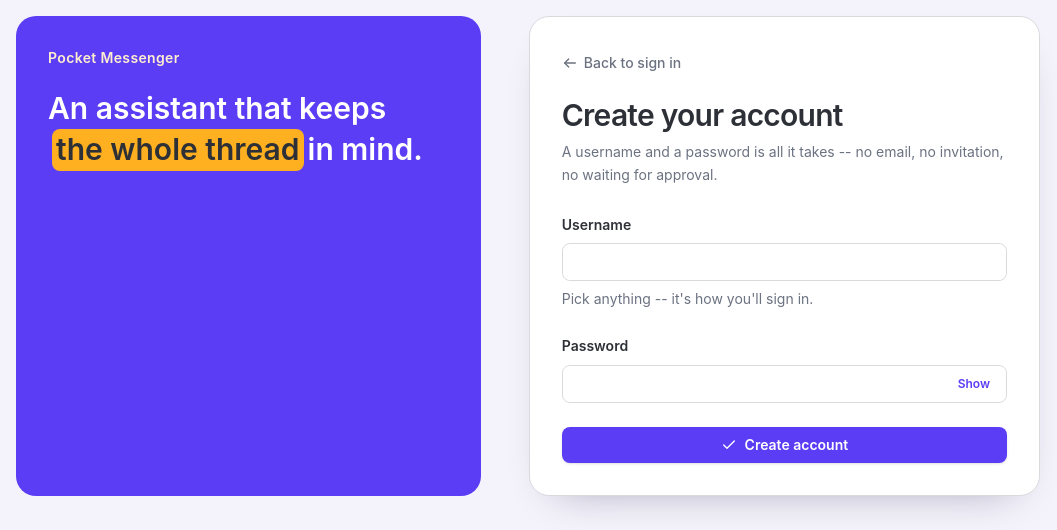
Test case: Signup screen › [AC-002] submits to POST /auth/register and signs the user in on success
The image size is (1057, 530).
In the field labelled "Username": point(784, 262) [563, 244, 1006, 280], type "newuser"
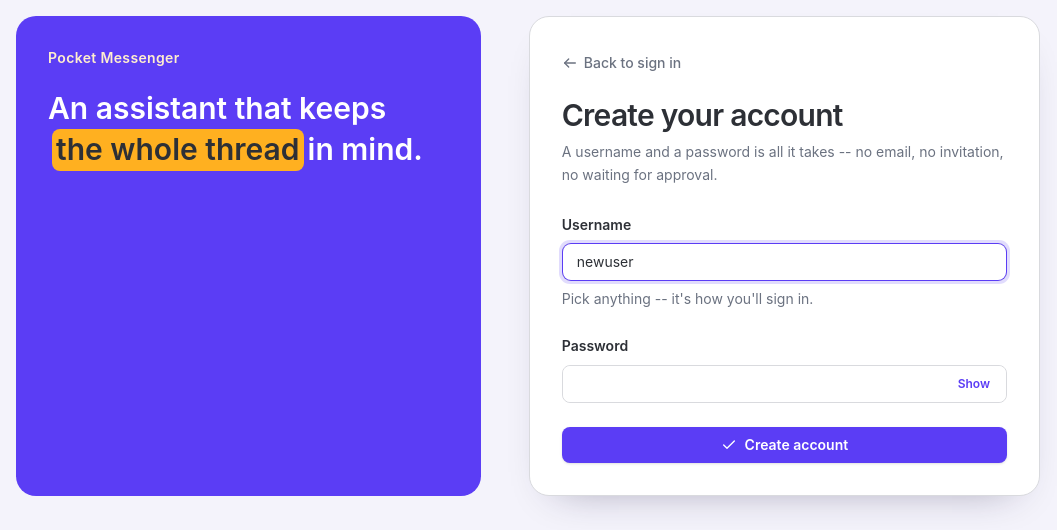
In the password field labelled "Password": point(784, 384) [563, 366, 1006, 402], type "a-strong-pass1"
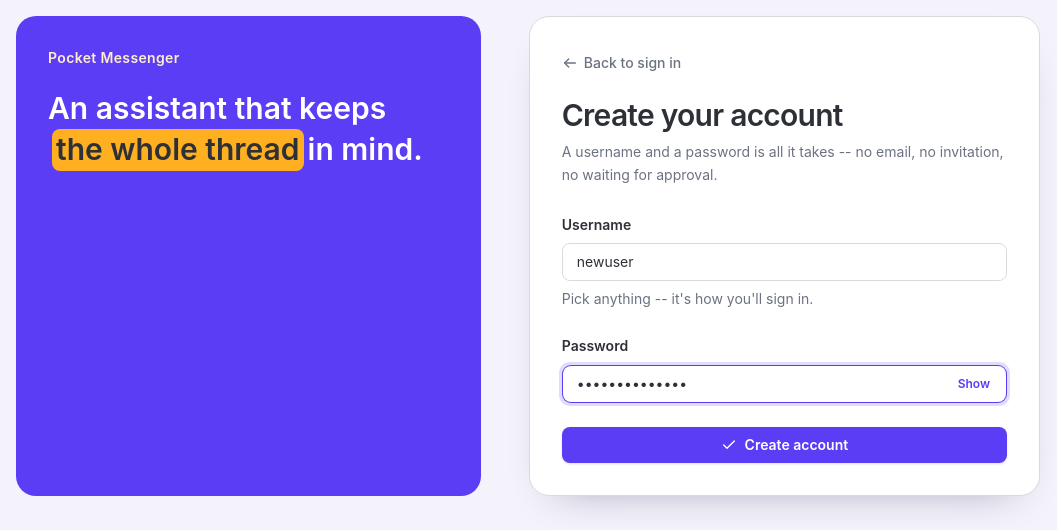
Click the button "Create account": point(784, 444) [562, 426, 1007, 462]
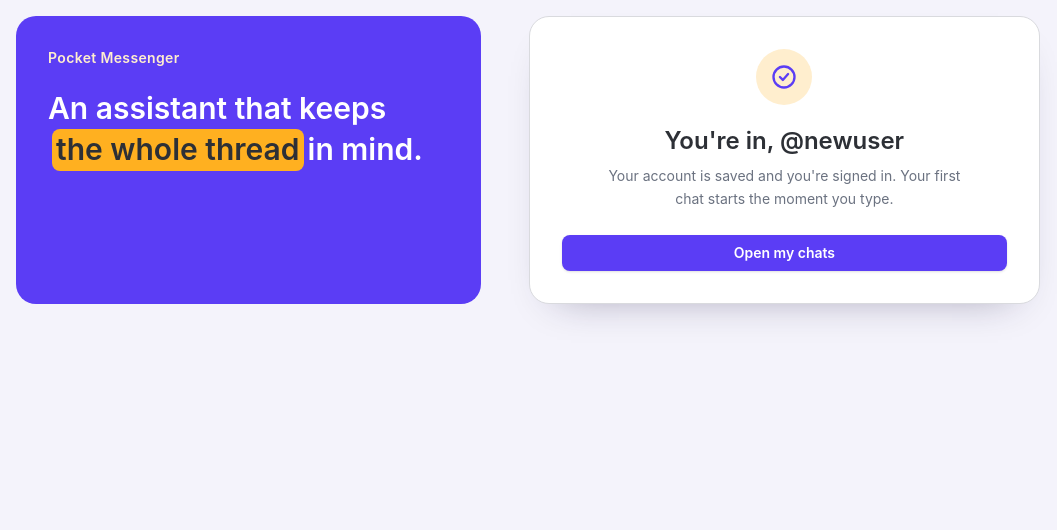
Now the heading "You're in, @newuser" is shown, box [665, 126, 904, 155]
